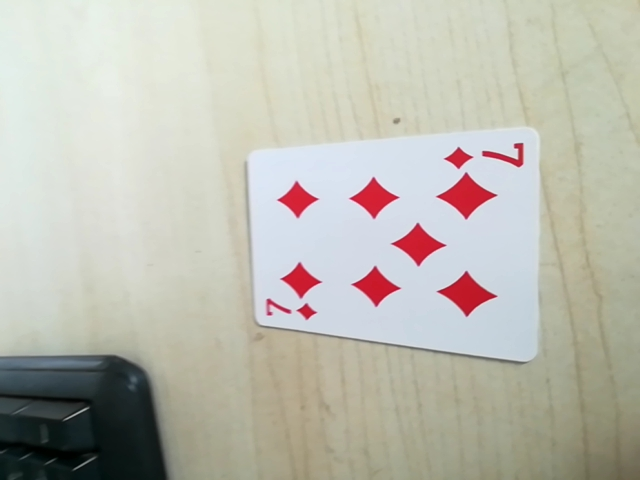fk 7: (443, 134, 527, 174), (257, 297, 323, 326)
